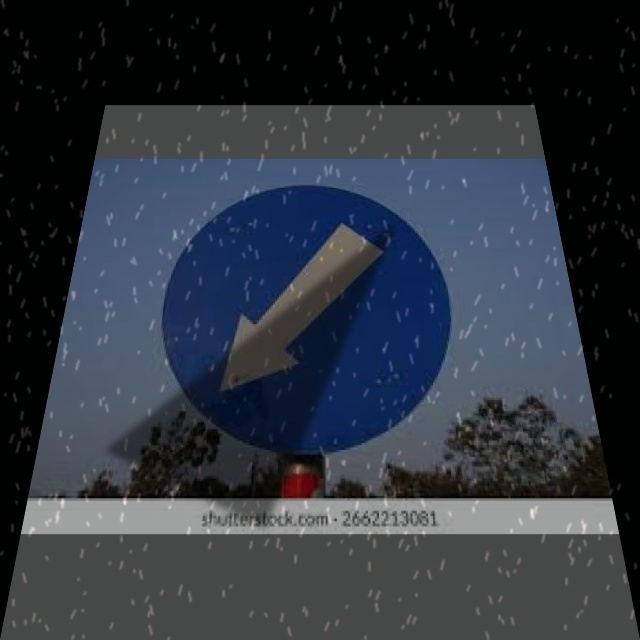Compulsory_Keep_Left: (149, 187, 455, 440)
